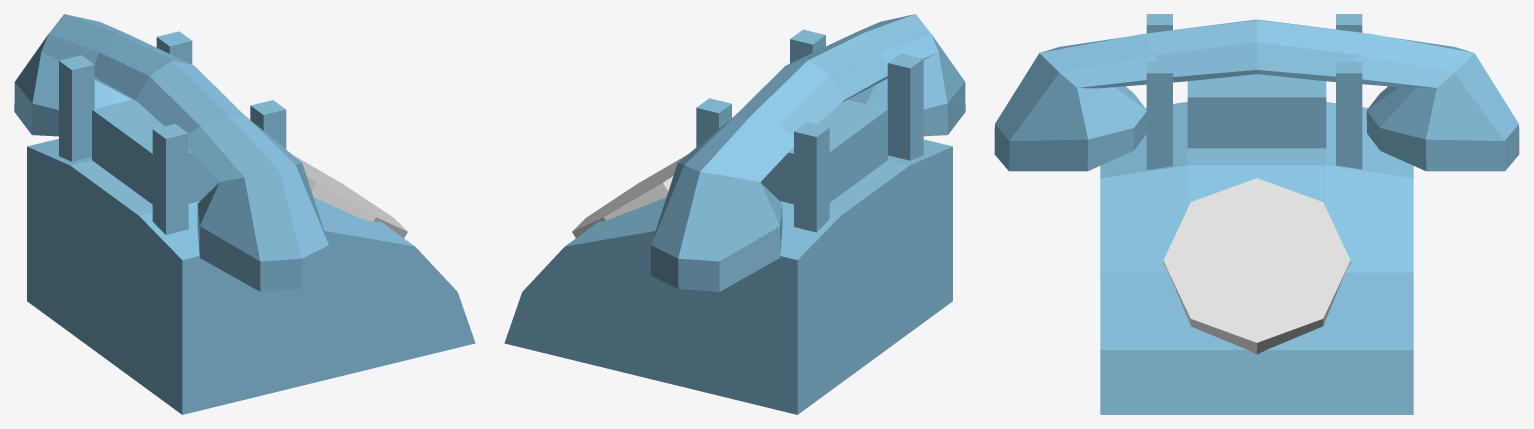
File: rotaryphone.fbx
The picture shows the model from 3 angles, left to right: view 1: azimuth 30°, elevation 25°; view 2: azimuth 150°, elevation 25°; view 3: azimuth 270°, elevation 25°; orthographic projection.
Visible parts, largest first — view 1: phone; view 2: phone; view 3: phone.
Part boxes in pixels (x1=…): phone: x1=14, y1=14, x2=475, y2=414; phone: x1=504, y1=14, x2=965, y2=414; phone: x1=994, y1=14, x2=1519, y2=414.
Size of the model in its own units: 218 by 200 by 335.
